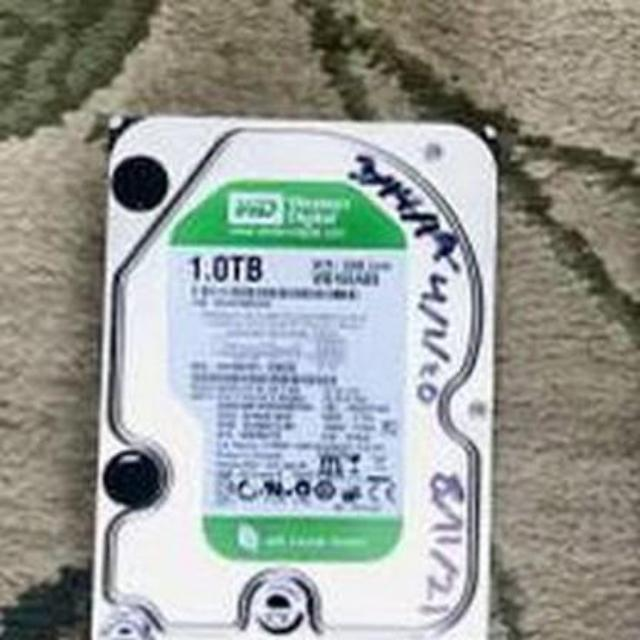DISK: (91, 111, 489, 640)
